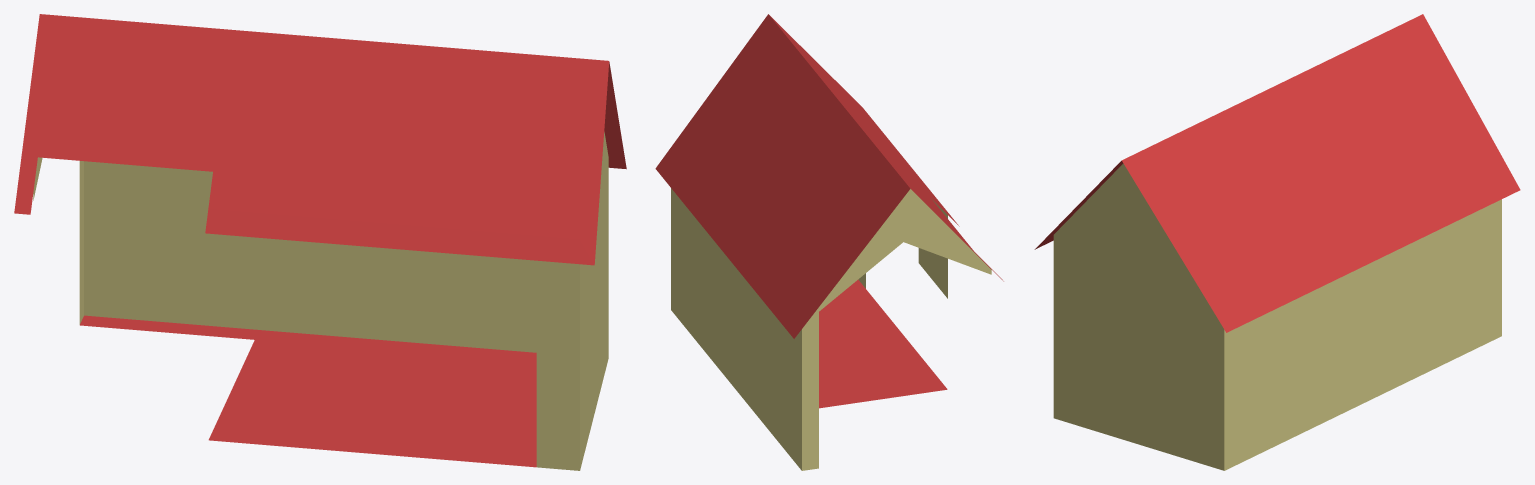
3 renders of one model, left to right at view 1: azimuth 30°, elevation 25°; view 2: azimuth 150°, elevation 25°; view 3: azimuth 270°, elevation 25°, orthographic. The views are drawn at different scales.
Bounding box in the file's own units: 27.97 × 27.63 × 17.91.
